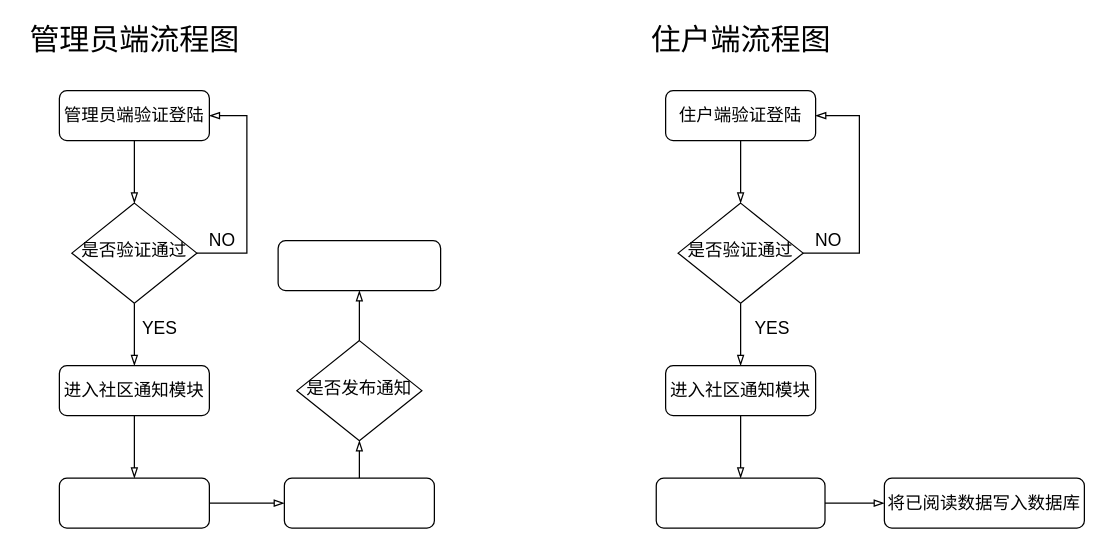
This 1106x550 diagram has some shape labels left out. The box of each missing label's shape, as (x1, y1, x2, y2) in pixels:
将通知存入数据库: (283, 477, 434, 528)
新建社区通知: (58, 477, 209, 528)
点击查看为阅读通知: (655, 477, 825, 528)
通知住户有新的通知: (277, 239, 441, 291)
